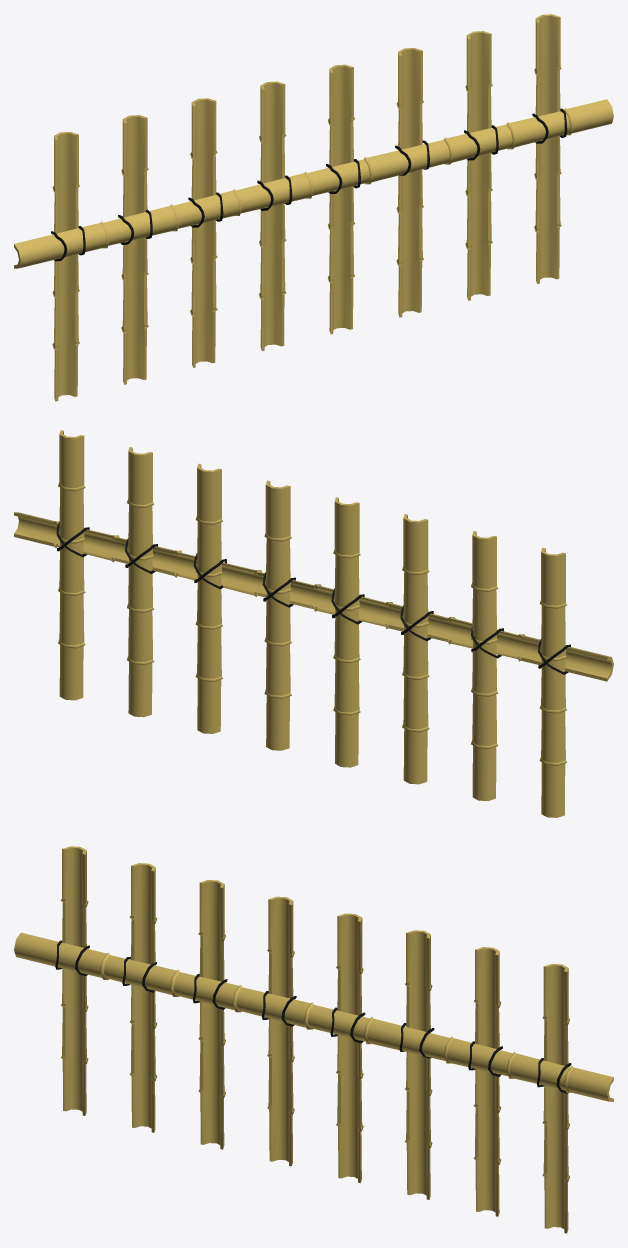
Rendered from bamboo2.FBX.
3 views of the same model, one above another, from view 1: azimuth 30°, elevation 25°; view 2: azimuth 150°, elevation 25°; view 3: azimuth 330°, elevation 25° (orthographic).
Visible parts, largest first — view 1: bamboo17, bamboo05, bamboo01, bamboo07, bamboo06, bamboo02, bamboo04, bamboo03, bamboo08; view 2: bamboo17, bamboo06, bamboo01, bamboo04, bamboo05, bamboo08, bamboo03, bamboo07, bamboo02; view 3: bamboo17, bamboo01, bamboo04, bamboo06, bamboo05, bamboo03, bamboo02, bamboo07, bamboo08.
Part boxes in pixels (x1,y1,x2,y2): bamboo17: [14, 99, 613, 268]; bamboo05: [259, 81, 286, 351]; bamboo01: [534, 14, 561, 283]; bamboo07: [121, 115, 148, 384]; bamboo06: [190, 98, 217, 367]; bamboo02: [465, 31, 492, 300]; bamboo04: [327, 64, 355, 334]; bamboo03: [396, 48, 423, 317]; bamboo08: [52, 132, 79, 401]; bamboo17: [14, 512, 613, 681]; bamboo06: [402, 514, 429, 784]; bamboo01: [58, 430, 85, 700]; bamboo04: [264, 480, 291, 750]; bamboo05: [333, 497, 360, 767]; bamboo08: [539, 547, 566, 817]; bamboo03: [195, 463, 222, 733]; bamboo07: [471, 531, 498, 800]; bamboo02: [126, 447, 154, 717]; bamboo17: [14, 932, 613, 1101]; bamboo01: [542, 964, 569, 1233]; bamboo04: [336, 913, 363, 1183]; bamboo06: [198, 880, 225, 1149]; bamboo05: [267, 896, 294, 1166]; bamboo03: [405, 930, 432, 1199]; bamboo02: [473, 947, 501, 1216]; bamboo07: [129, 863, 156, 1132]; bamboo08: [61, 846, 88, 1115].
Bounding box in the file's own units: 159 × 66.93 × 7.88.
